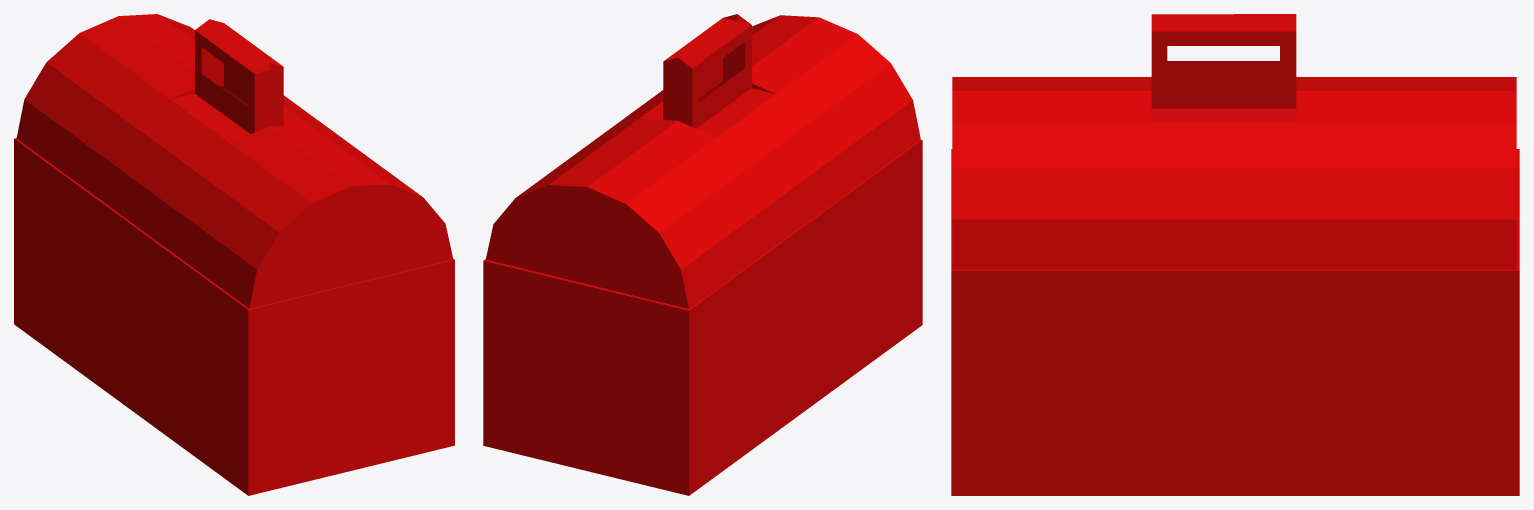
The model's file is Toolbox_Close.fbx.
3 renders of one model, left to right at view 1: azimuth 30°, elevation 25°; view 2: azimuth 150°, elevation 25°; view 3: azimuth 270°, elevation 25°, orthographic. The views are drawn at different scales.
Visible parts, largest first — view 1: pCylinder3; view 2: pCylinder3; view 3: pCylinder3.
Boxes of the visible parts, bbox=[...] form: pCylinder3: bbox=[14, 14, 454, 495]; pCylinder3: bbox=[483, 14, 922, 495]; pCylinder3: bbox=[951, 14, 1519, 495].
Size of the model in its own units: 8.82 by 14.19 by 17.35.
